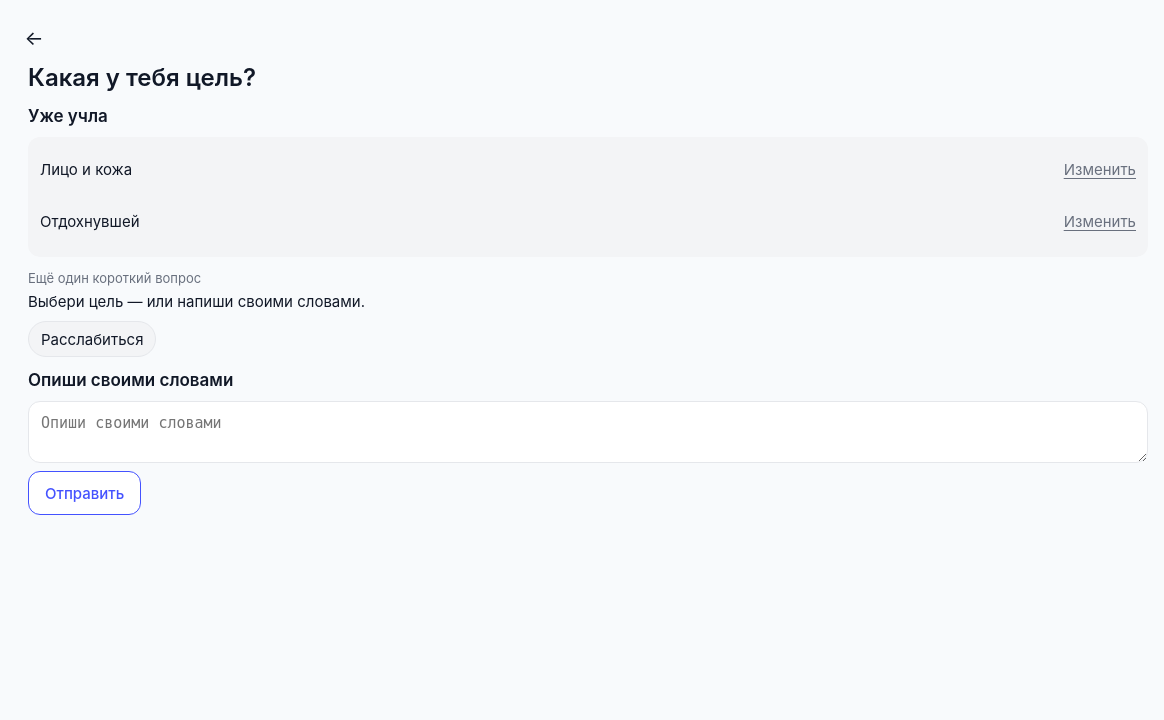
it: «Изменить» — пересмотр ответа с revise › открывает варианты ЭТОГО шага вместо вопроса, тап уходит с revise
The image size is (1164, 720).
Click the button with aria-label "Изменить: Лицо и кожа" at (1100, 171), box [1064, 149, 1136, 193]
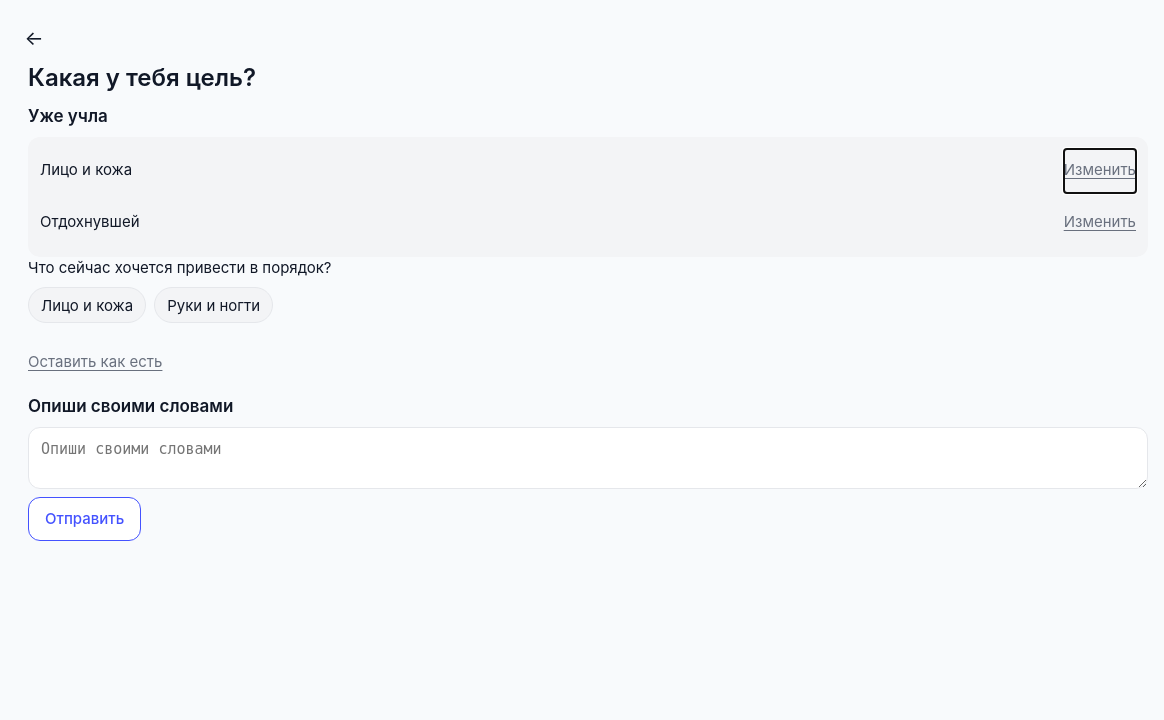
Now the text "Выбери цель — или напиши своими словами." is gone
Click the button "Руки и ногти" at (214, 305), box [154, 287, 273, 323]
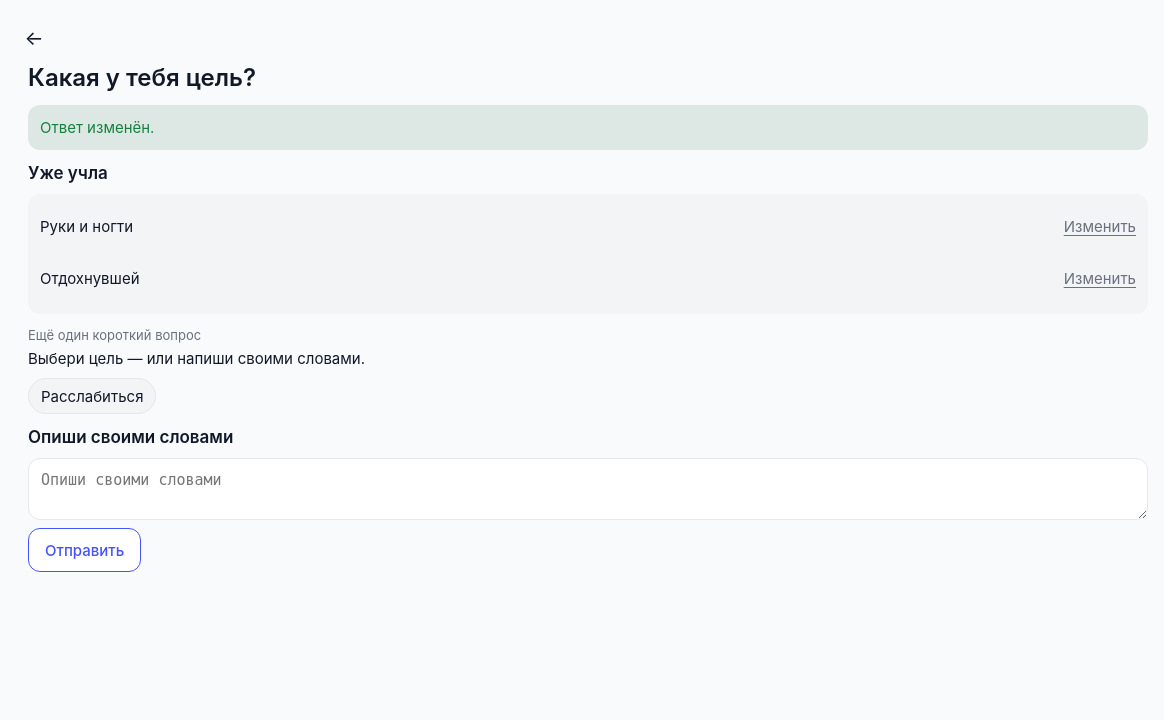
Now the text "Ответ изменён." is shown, box [40, 118, 154, 137]
Now the text "Руки и ногти" is shown, box [40, 216, 133, 239]
Now the element named "Выбери цель — или напиши своими словами." is shown, box [28, 378, 156, 414]
